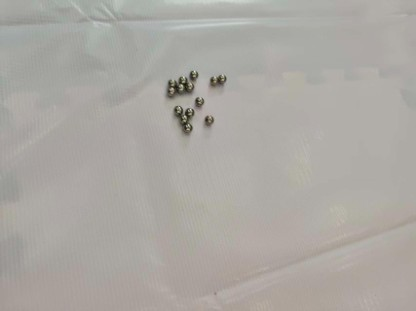ironball: (209, 74, 218, 85), (182, 122, 191, 133), (217, 73, 226, 83), (189, 68, 198, 78), (203, 114, 212, 123), (193, 96, 202, 105), (186, 107, 194, 117), (173, 104, 181, 113), (179, 114, 188, 122), (168, 78, 176, 87), (167, 87, 175, 96), (176, 85, 184, 94), (186, 82, 193, 90), (179, 75, 186, 83)
